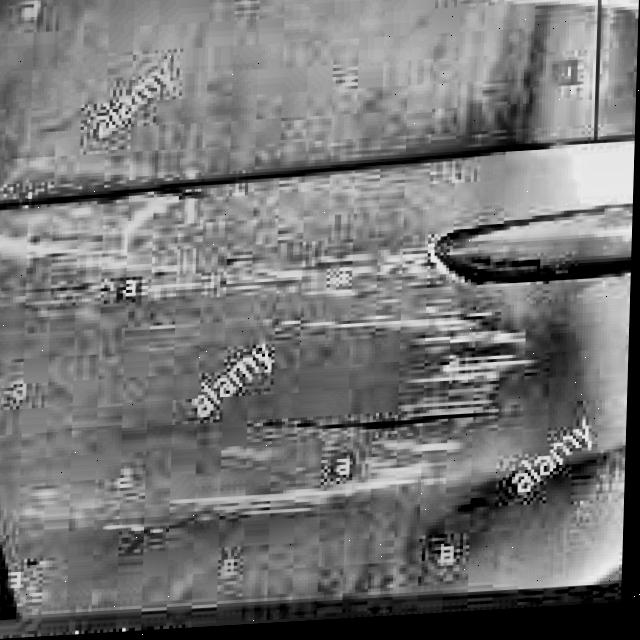bumper_scratch: (266, 306, 542, 455)
